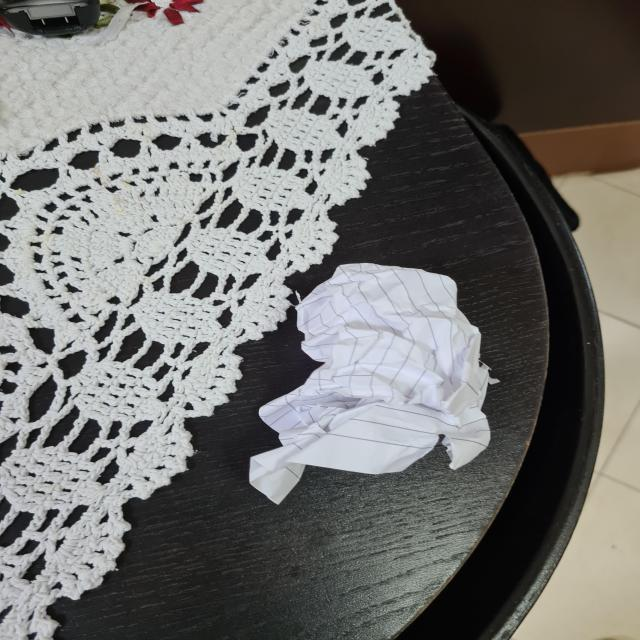trash: (252, 261, 508, 497)
